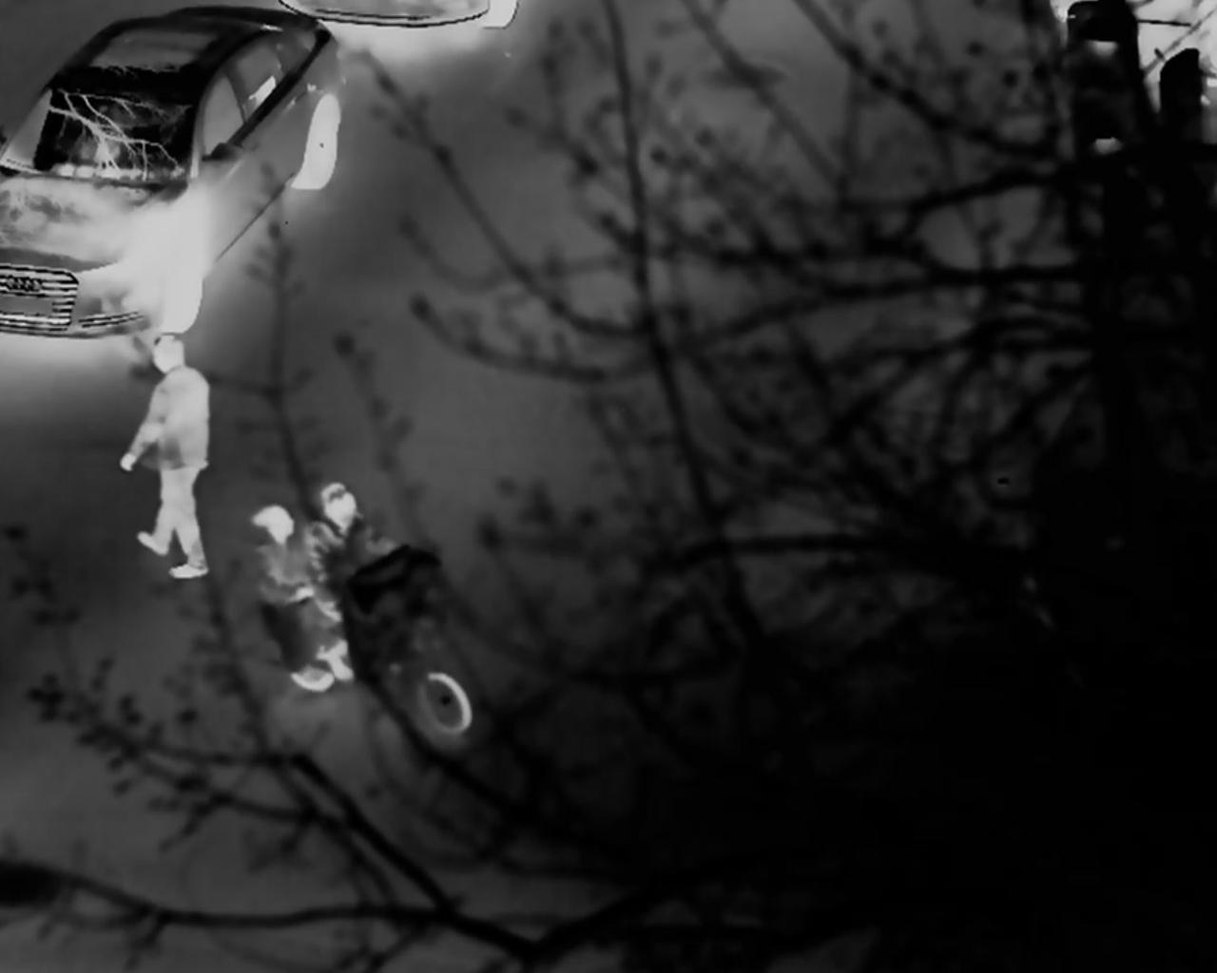person: (116, 335, 218, 580), (301, 481, 410, 682), (242, 505, 330, 690)
